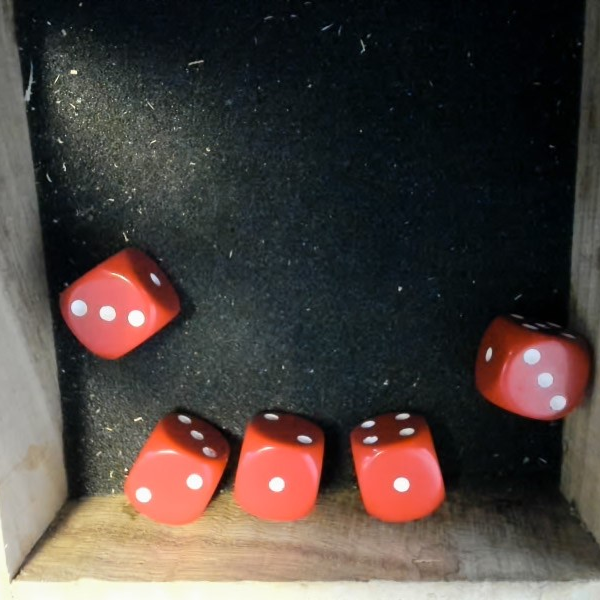red_die_pip1: (342, 403, 451, 532), (225, 406, 337, 527)
red_die_pip2: (114, 407, 239, 536)
red_die_pip3: (46, 235, 187, 373), (466, 299, 598, 430)
